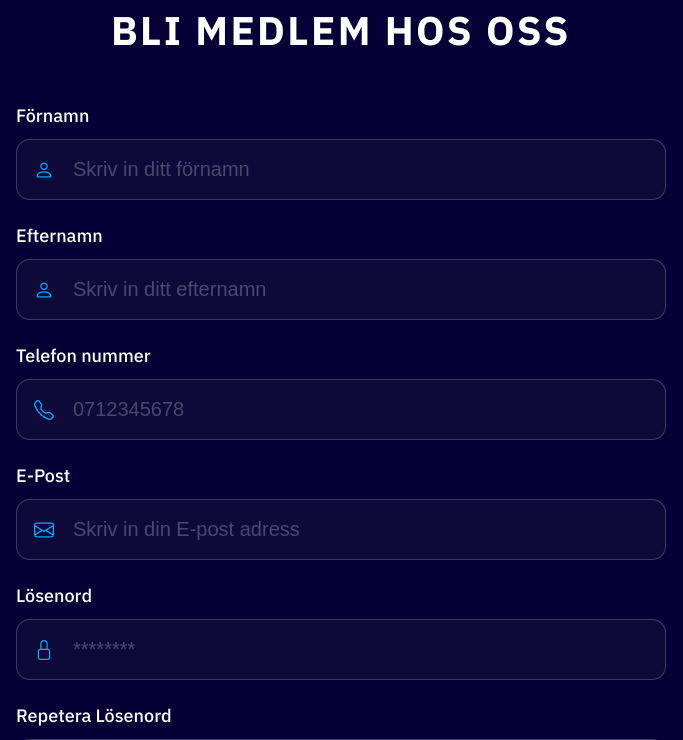
RegistrationPage › shows validation error for short password
Type "short" into the 1st password field with placeholder "********". click: (341, 650)
box: [16,619,666,680]
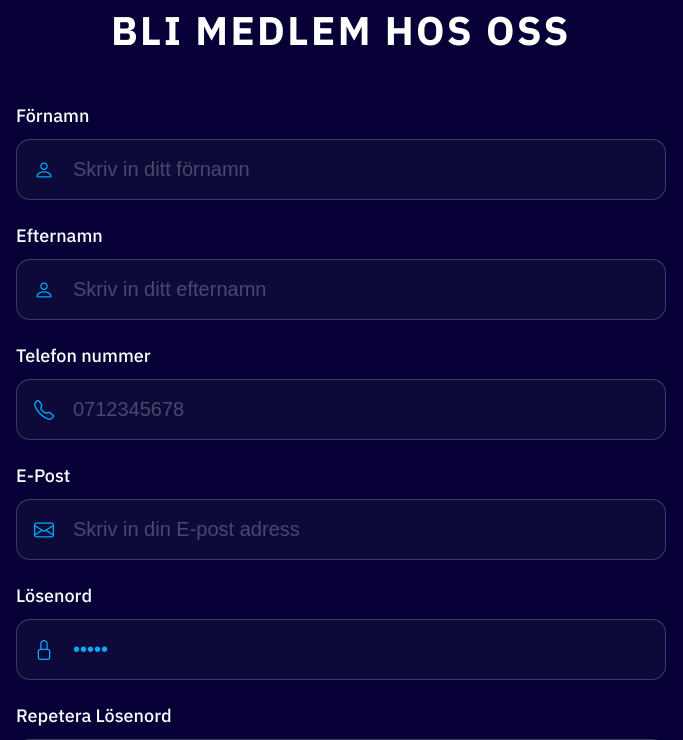
Leave the password field with placeholder "********", box [16,619,666,680]
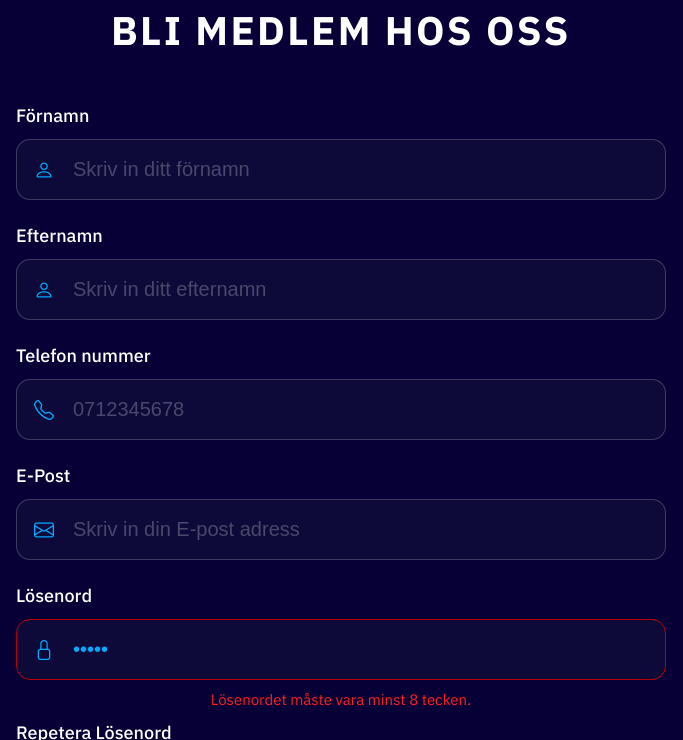
Result: the text "Lösenordet måste vara minst 8 tecken." is shown at [211,690,471,709]
